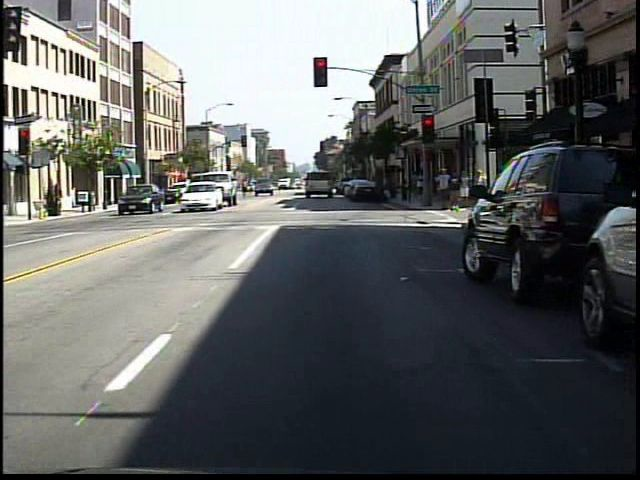person: (434, 165, 453, 209), (470, 166, 489, 210), (448, 168, 462, 214), (411, 166, 428, 203), (458, 168, 472, 209), (235, 173, 253, 202)
